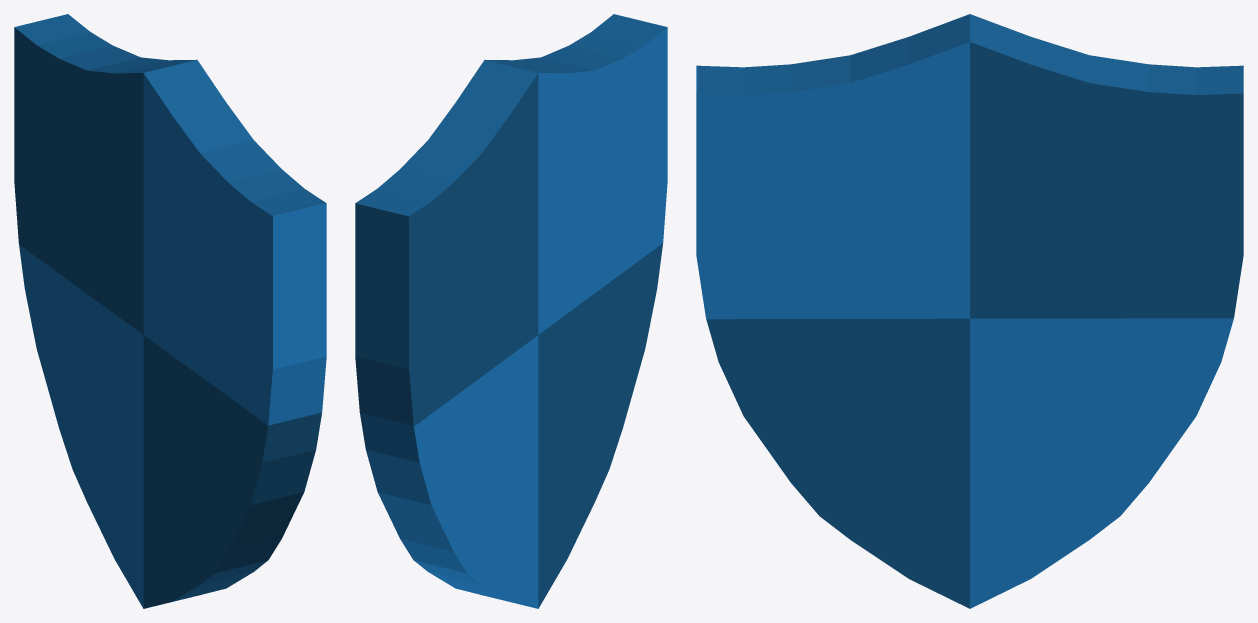
Rendered from scudo.fbx.
The picture shows the model from 3 angles, left to right: view 1: azimuth 30°, elevation 25°; view 2: azimuth 150°, elevation 25°; view 3: azimuth 270°, elevation 25°; orthographic projection. The views are drawn at different scales.
Visible parts, largest first — view 1: Cube; view 2: Cube; view 3: Cube.
Boxes of the visible parts, x1=… form: Cube: x1=14, y1=14, x2=326, y2=608; Cube: x1=355, y1=14, x2=667, y2=608; Cube: x1=696, y1=14, x2=1243, y2=608.
Size of the model in its own units: 52.63 by 500 by 438.
Materials: 1 (1 with a texture image).
